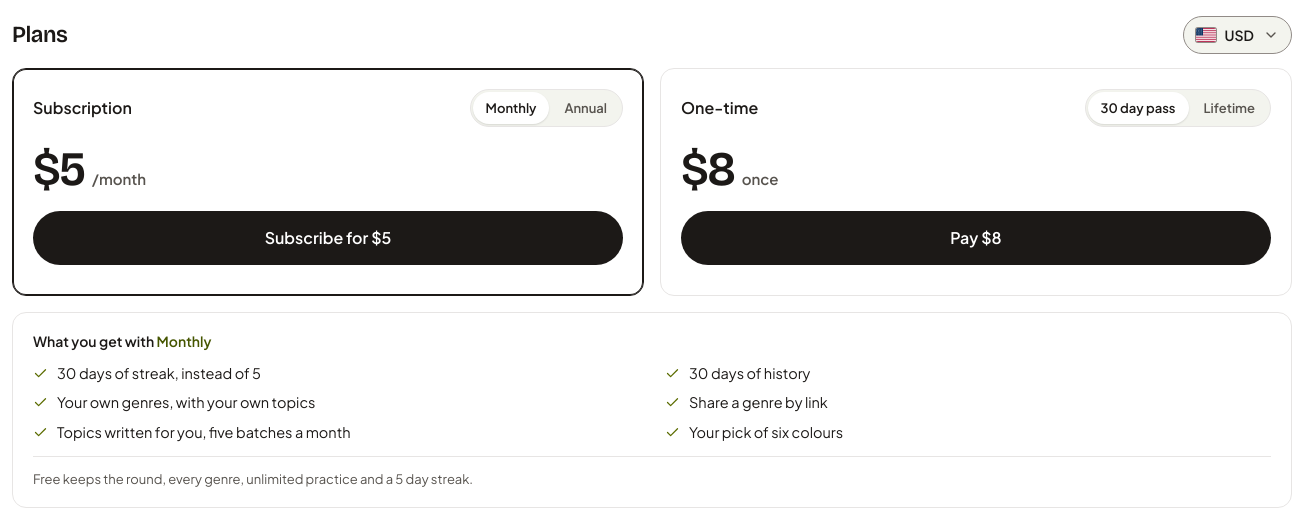
Test: the plans › names the price on the button, so what is pressed says what it costs
The width and height of the screenshot is (1304, 525).
Expected: the button "Subscribe for $5" is shown, 33,211 -> 623,265
Step 1. Click the radio button labelled "Annual" → click(586, 108), box 552,92 -> 620,124
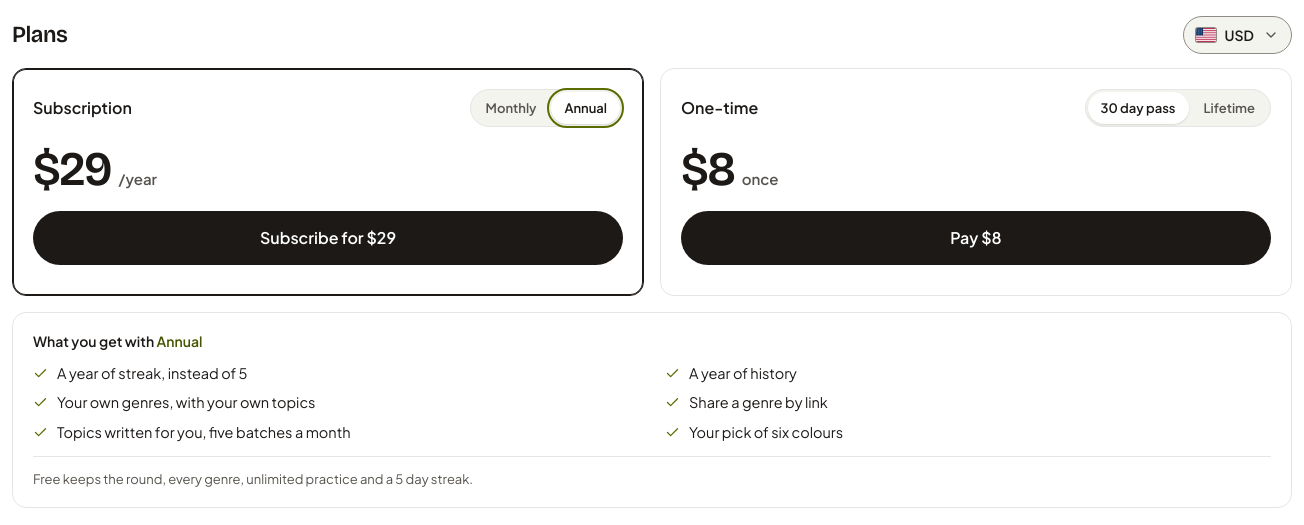
Result: the button "Subscribe for $29" is shown at 33,211 -> 623,265
